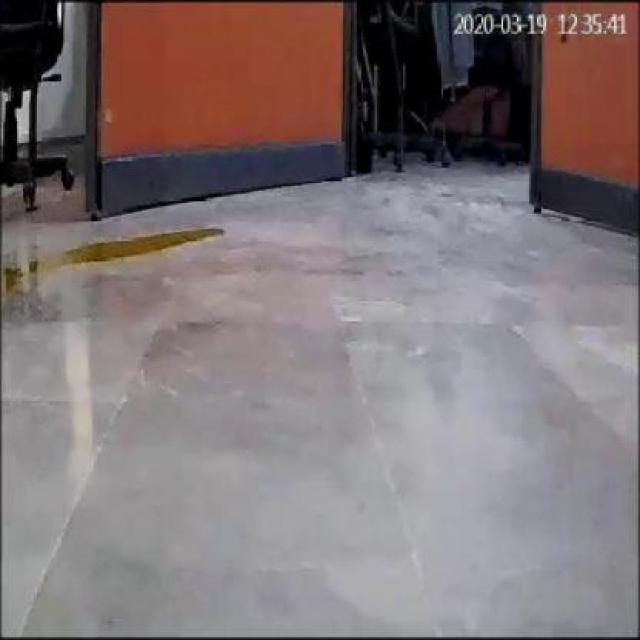spillage: (36, 229, 225, 273), (1, 269, 18, 297)
